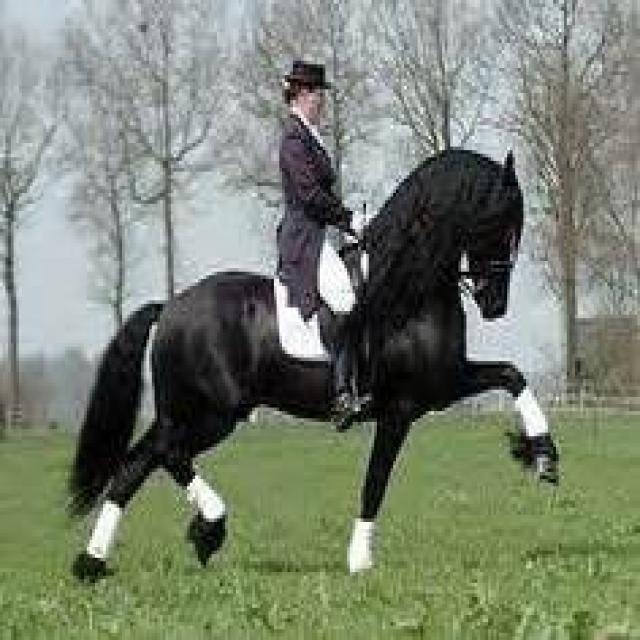animal: (65, 143, 559, 579)
